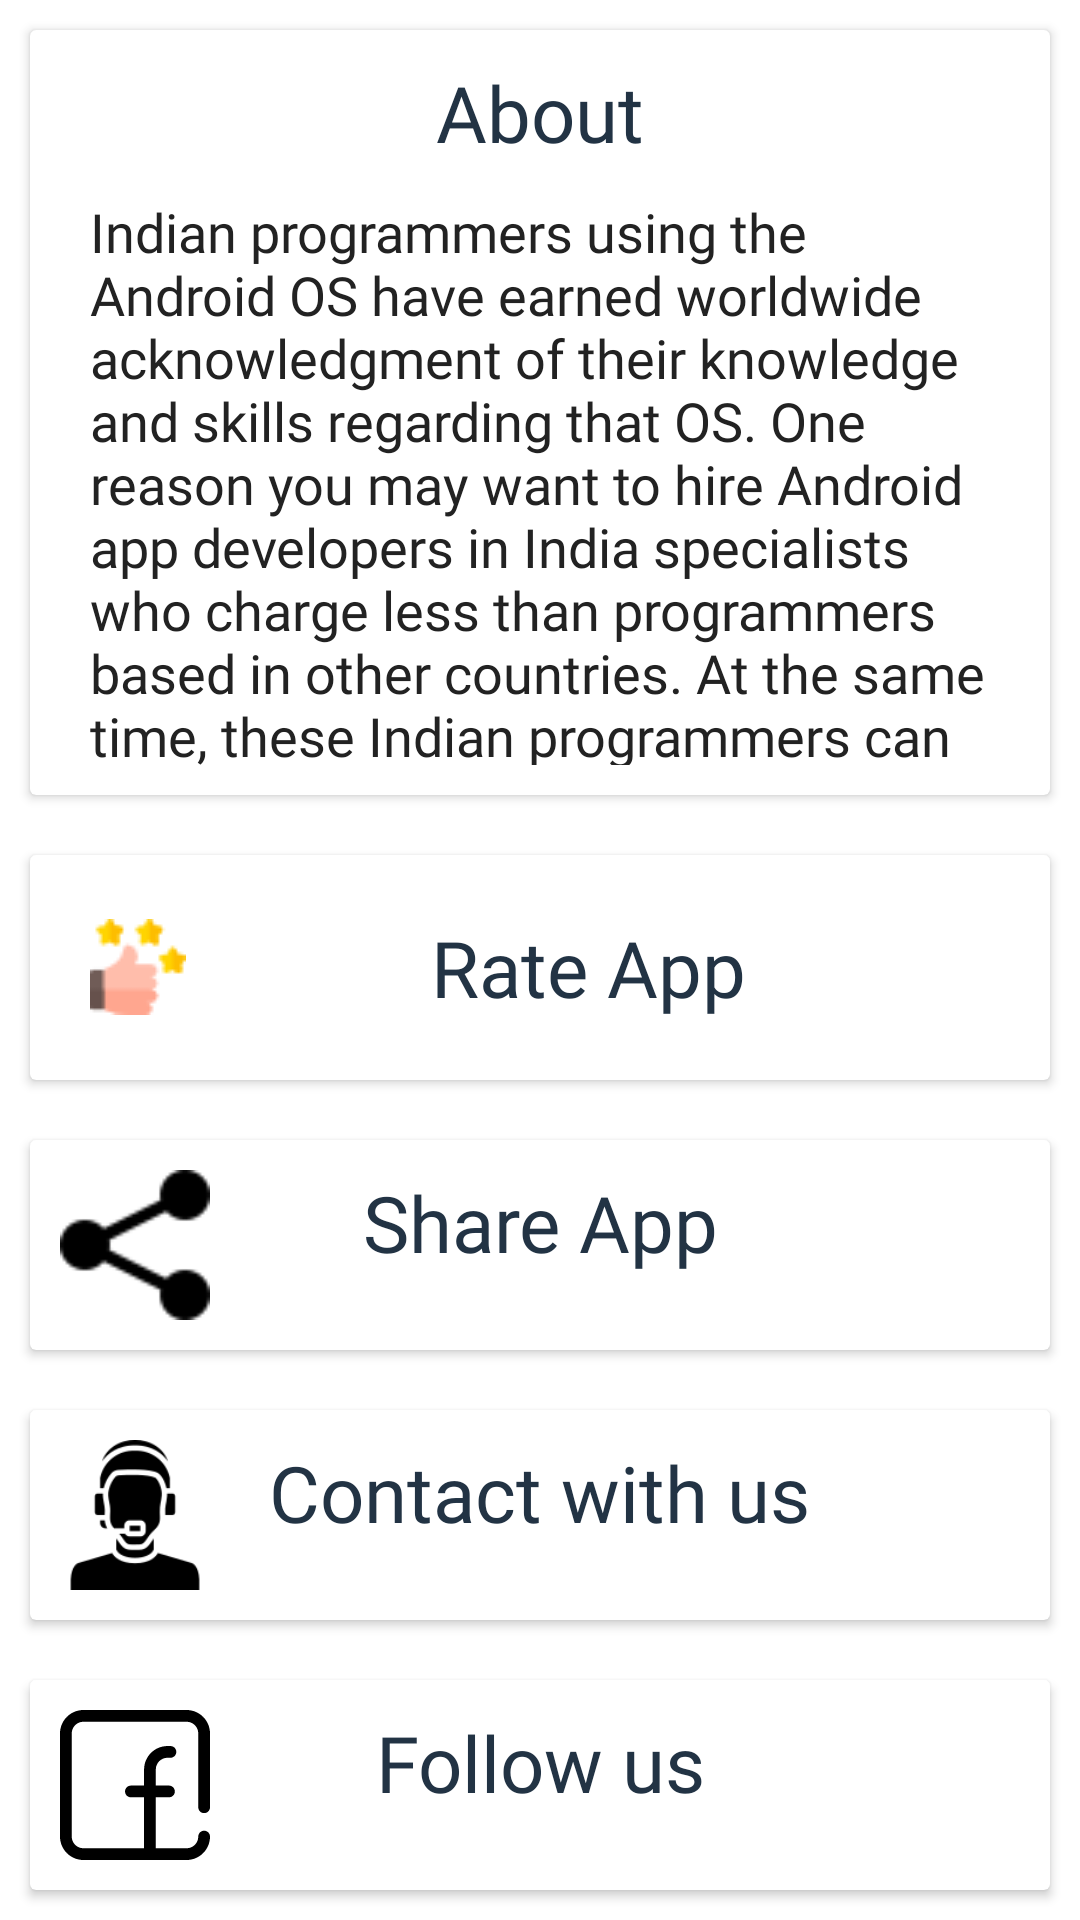

Named icons in this screenshot (1080x1920) and their bounding boxes, BBox(x1, y1, x2, y2):
share: BBox(60, 1170, 210, 1320)
